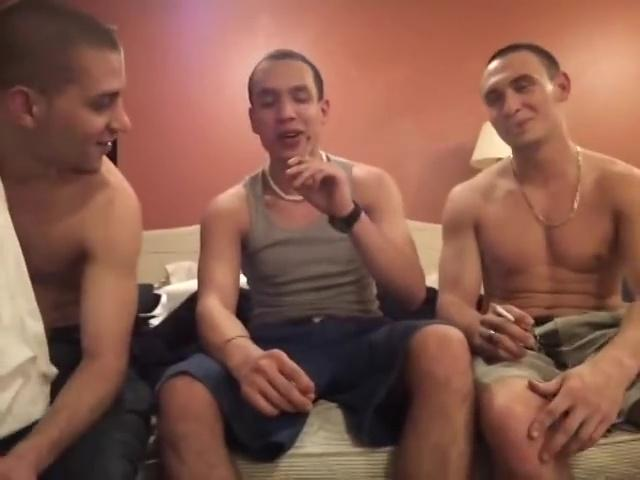cigarette: (486, 301, 519, 324), (301, 133, 314, 165)
